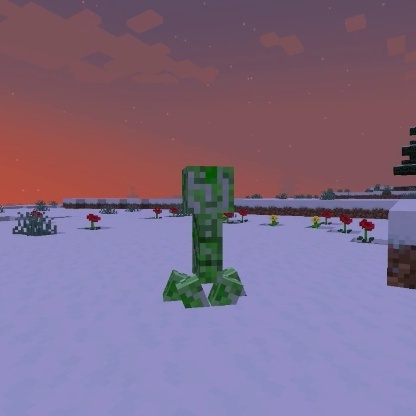creeper: (158, 164, 247, 311)
